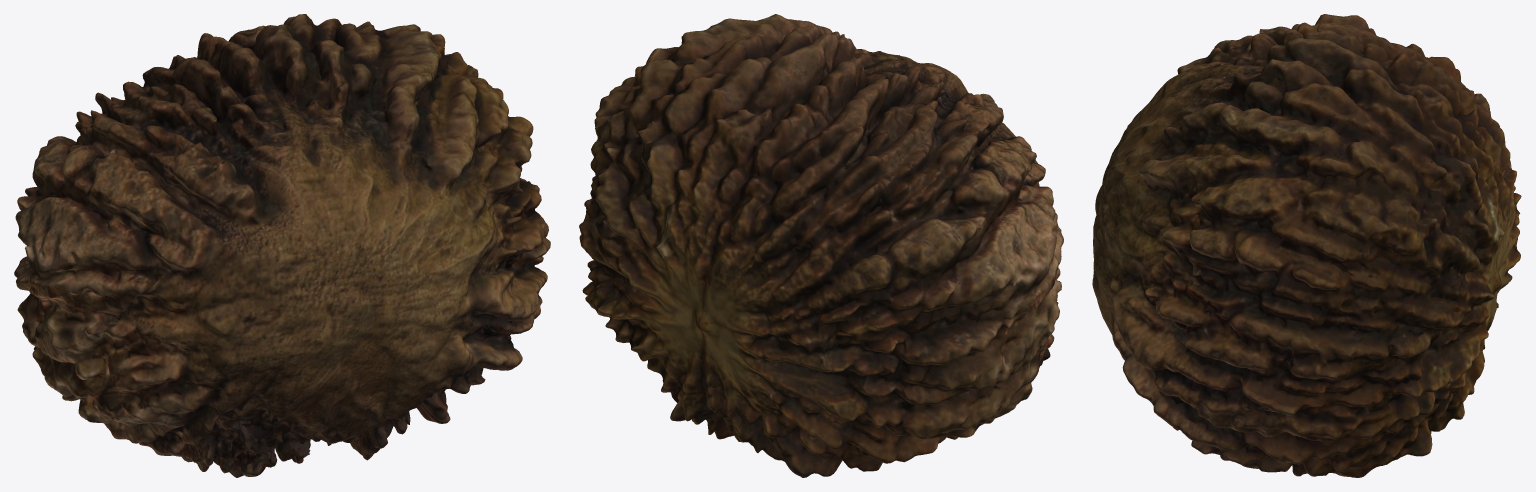
The model's file is schwarznuss_juglans_nigra.glb.
The picture shows the model from 3 angles, left to right: view 1: azimuth 30°, elevation 25°; view 2: azimuth 150°, elevation 25°; view 3: azimuth 270°, elevation 25°; orthographic projection. The views are drawn at different scales.
Parts seen in each view (by area): view 1: Object_2, Object_3; view 2: Object_2, Object_3; view 3: Object_2, Object_3.
Boxes of the visible parts, x1=… form: Object_2: x1=14, y1=14, x2=541, y2=465; Object_3: x1=14, y1=139, x2=550, y2=477; Object_2: x1=579, y1=14, x2=1063, y2=475; Object_3: x1=582, y1=47, x2=1061, y2=477; Object_2: x1=1092, y1=14, x2=1521, y2=471; Object_3: x1=1093, y1=36, x2=1517, y2=477.
Size of the model in its own units: 7.17 by 6.01 by 5.7.
1 material, 1 textured.
